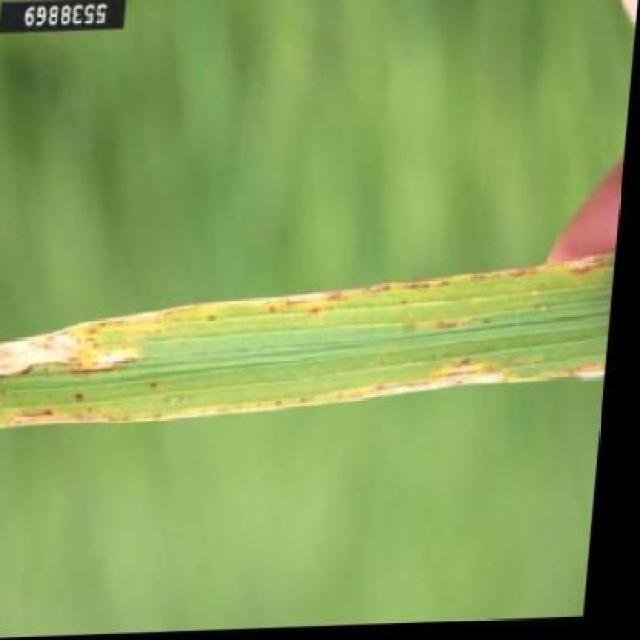Brown_Spot: (0, 305, 617, 440)
